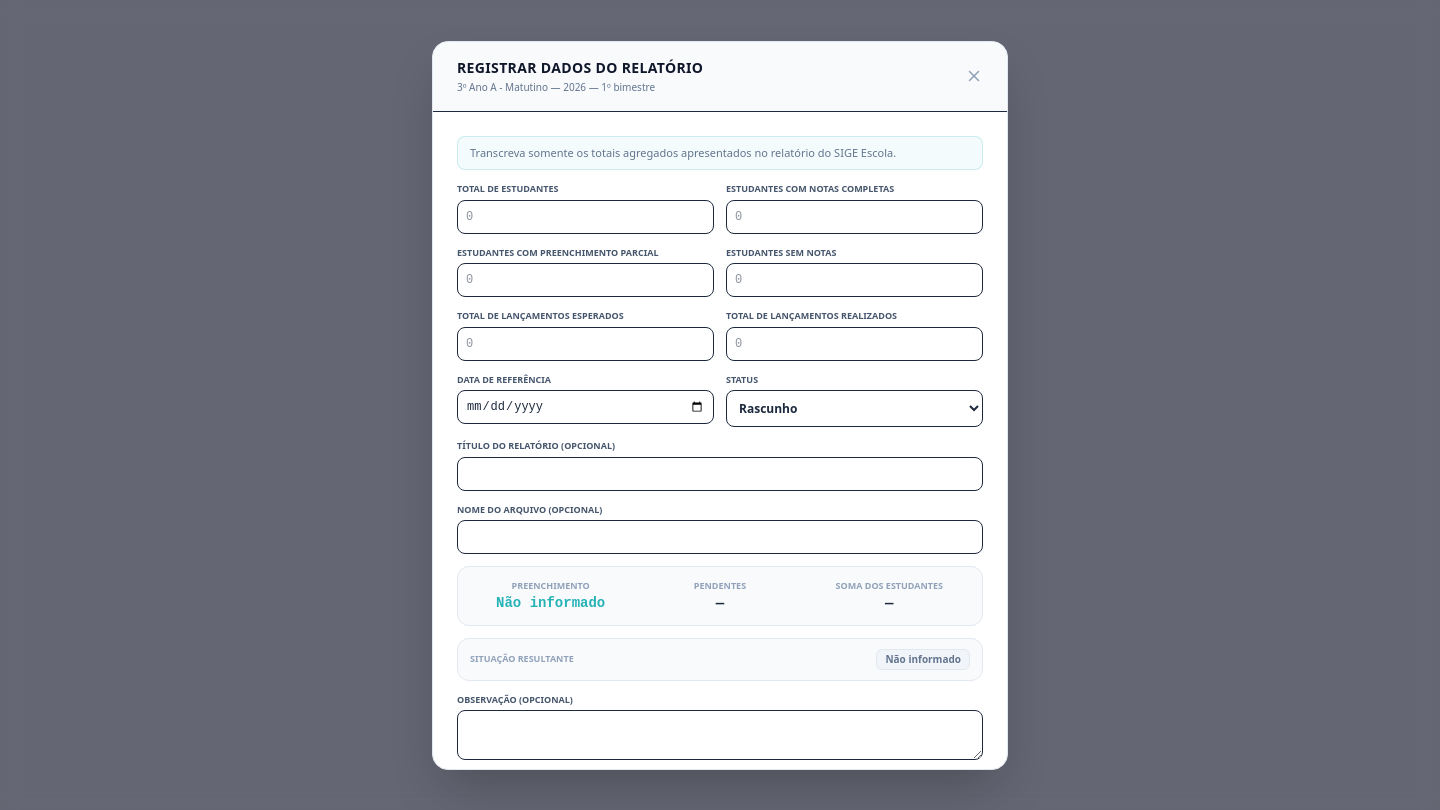
Test: GradeEntryMonitoringFormModal › soma de estudantes divergente do total mostra aviso, mesmo antes do envio
The image size is (1440, 810).
Type "32" into the field labelled "Total de estudantes" at (586, 216), box [457, 200, 714, 234]
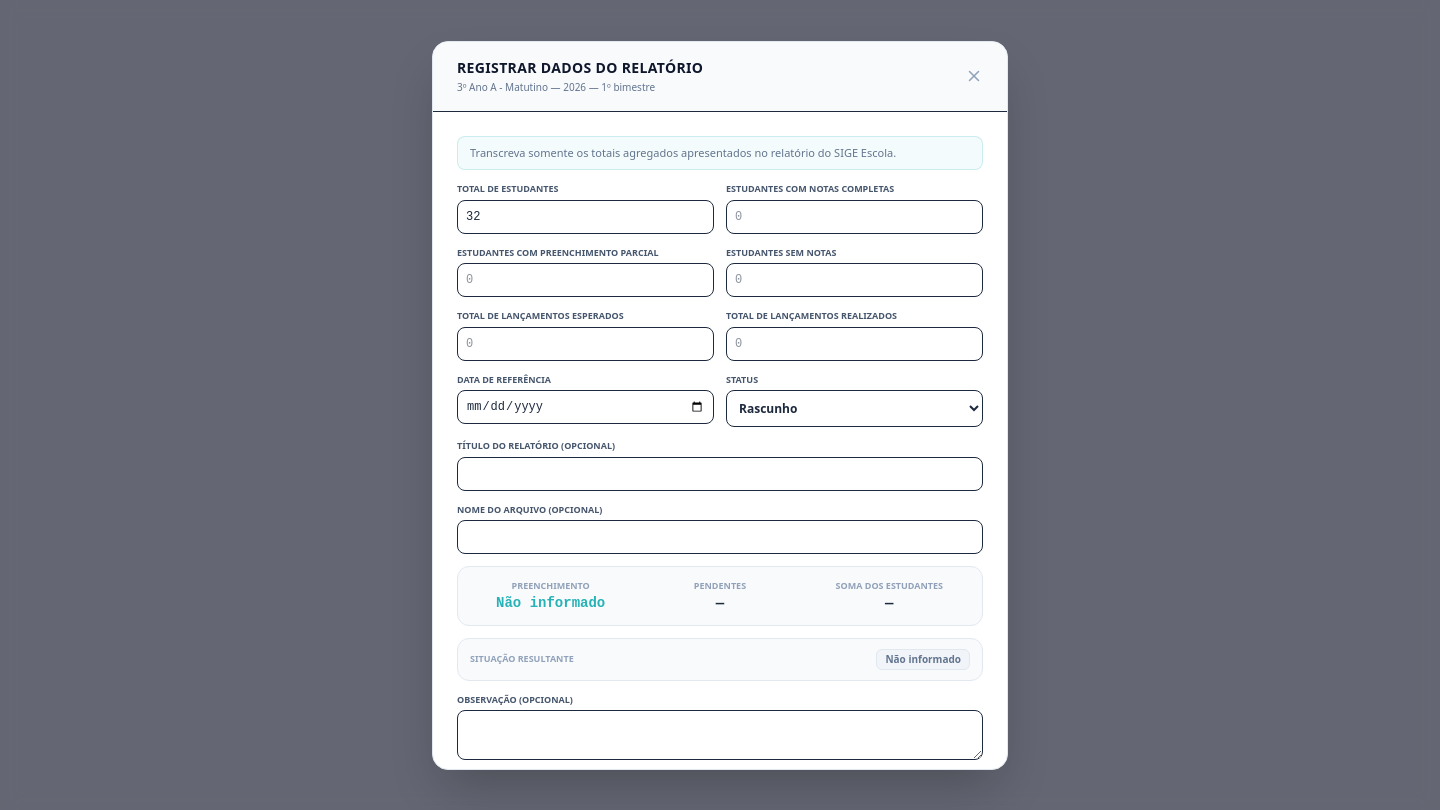
Type "10" into the field labelled "Estudantes com notas completas" at (854, 216), box [726, 200, 983, 234]
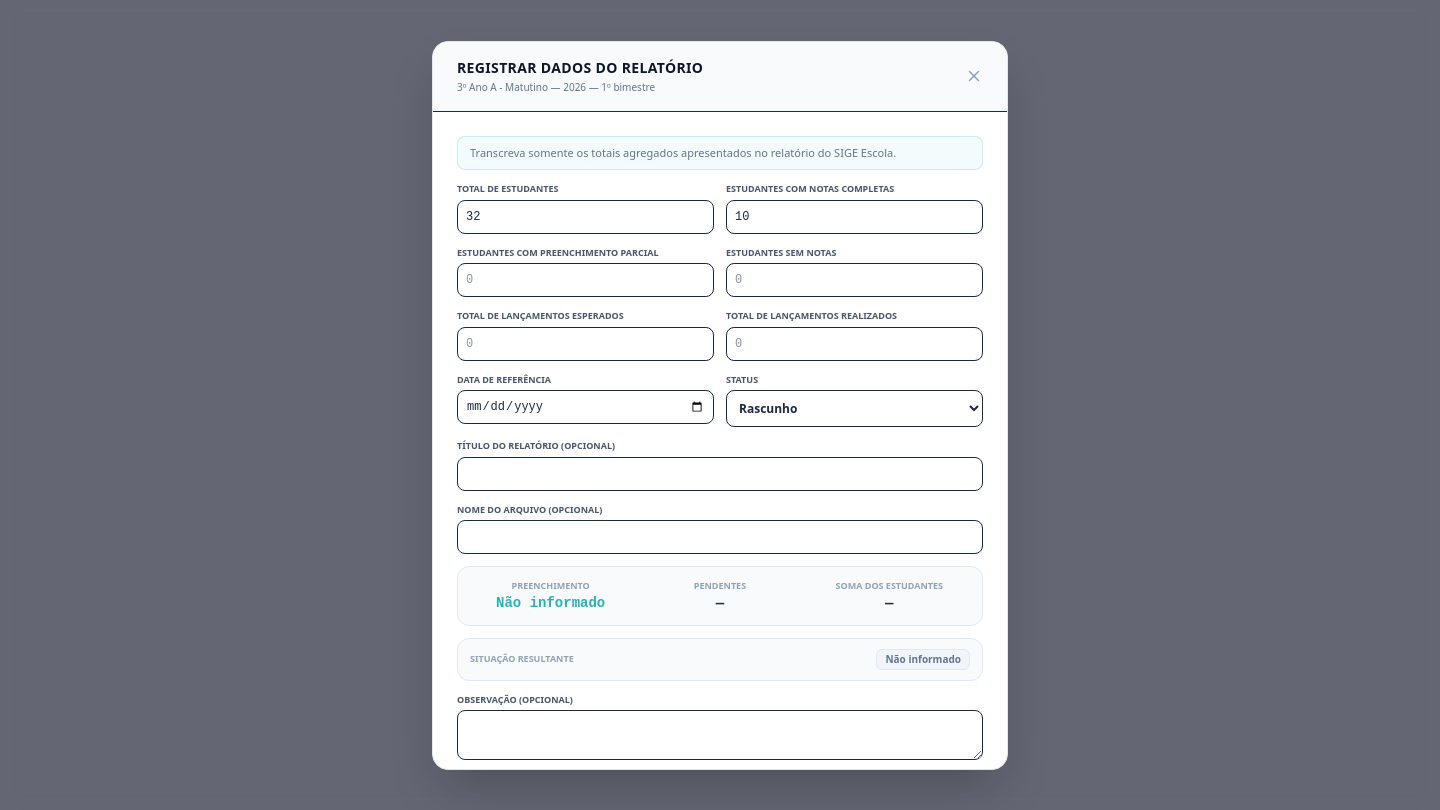
Type "10" into the field labelled "Estudantes com preenchimento parcial" at (586, 280), box [457, 263, 714, 297]
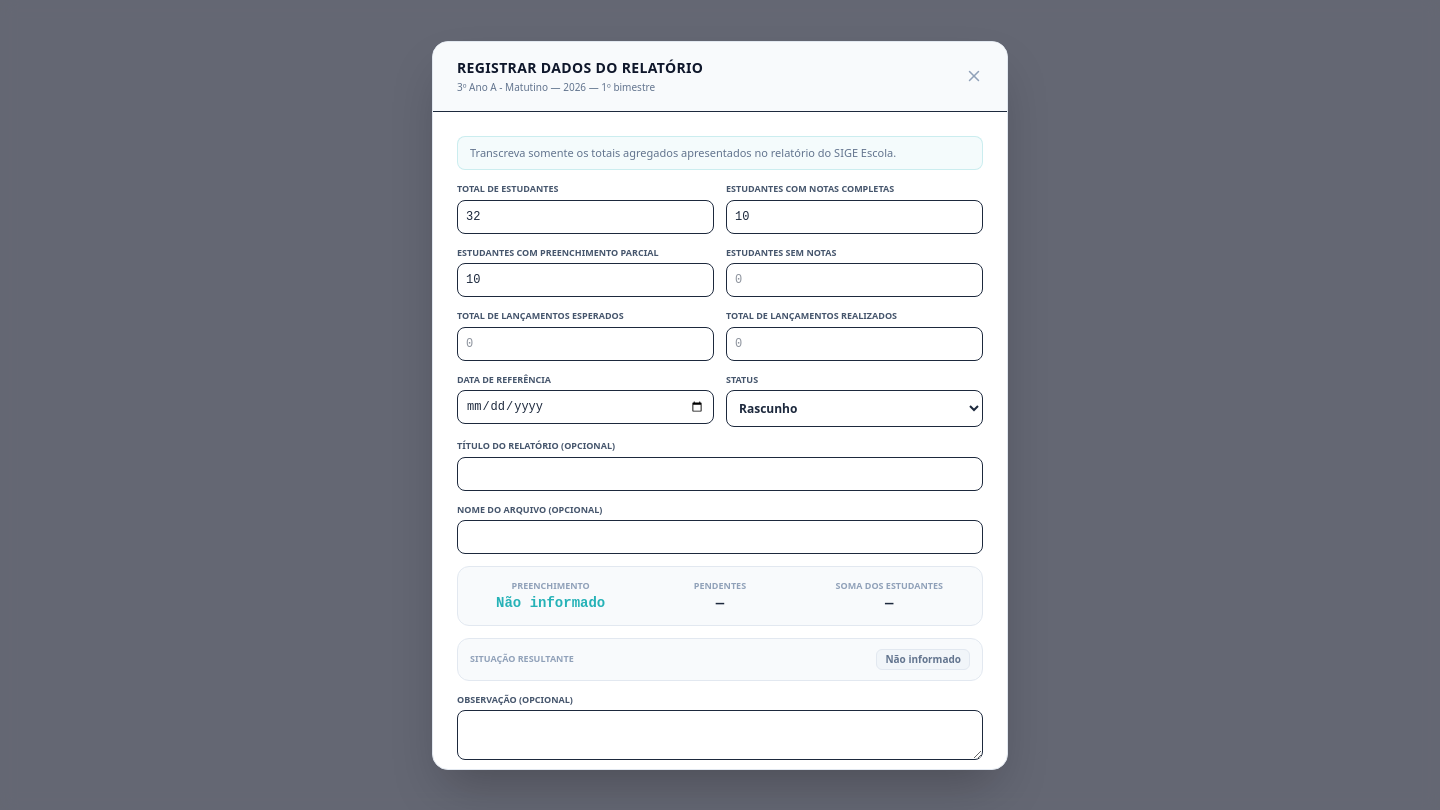
Type "5" into the field labelled "Estudantes sem notas" at (854, 280), box [726, 263, 983, 297]
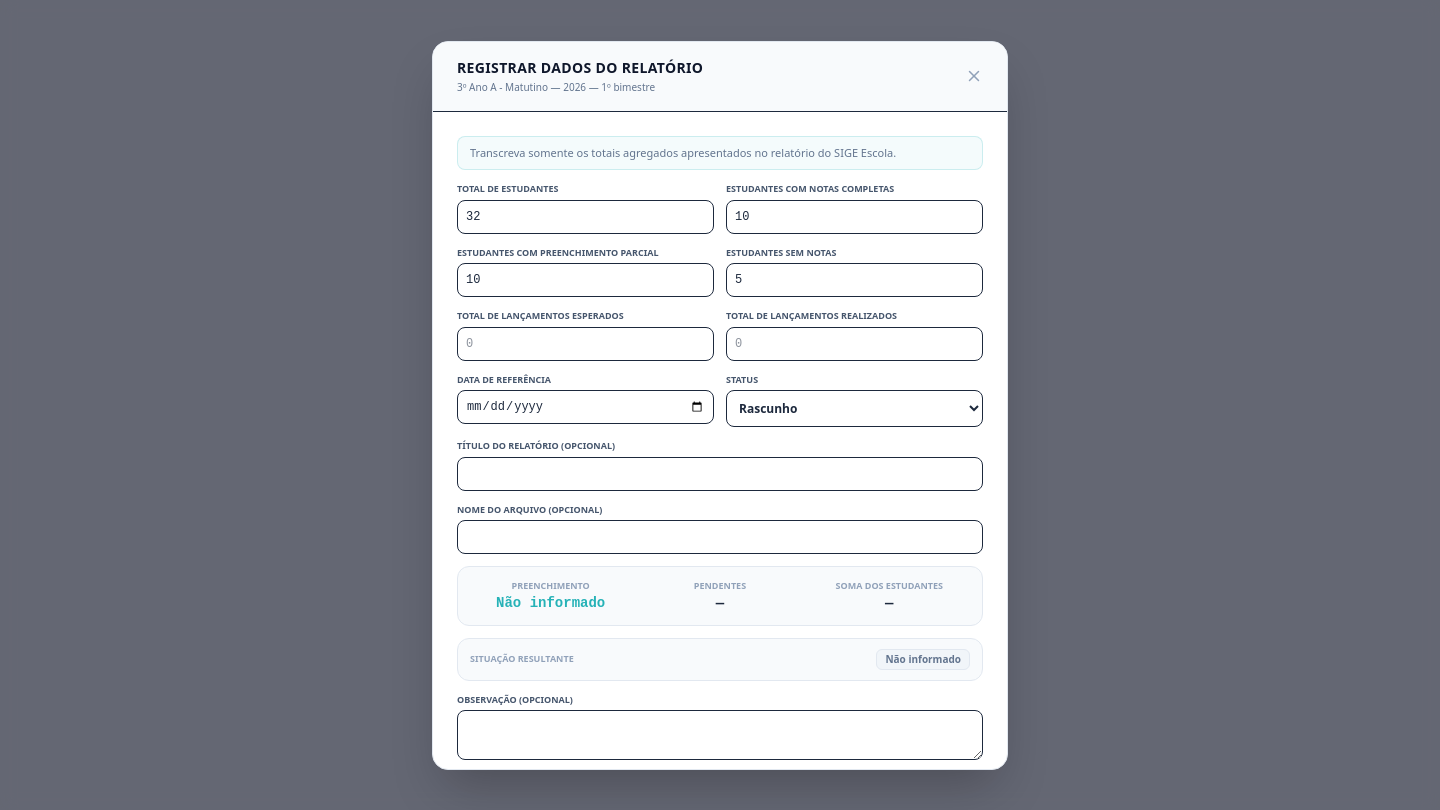
Type "128" into the field labelled "Total de lançamentos esperados" at (586, 344), box [457, 326, 714, 360]
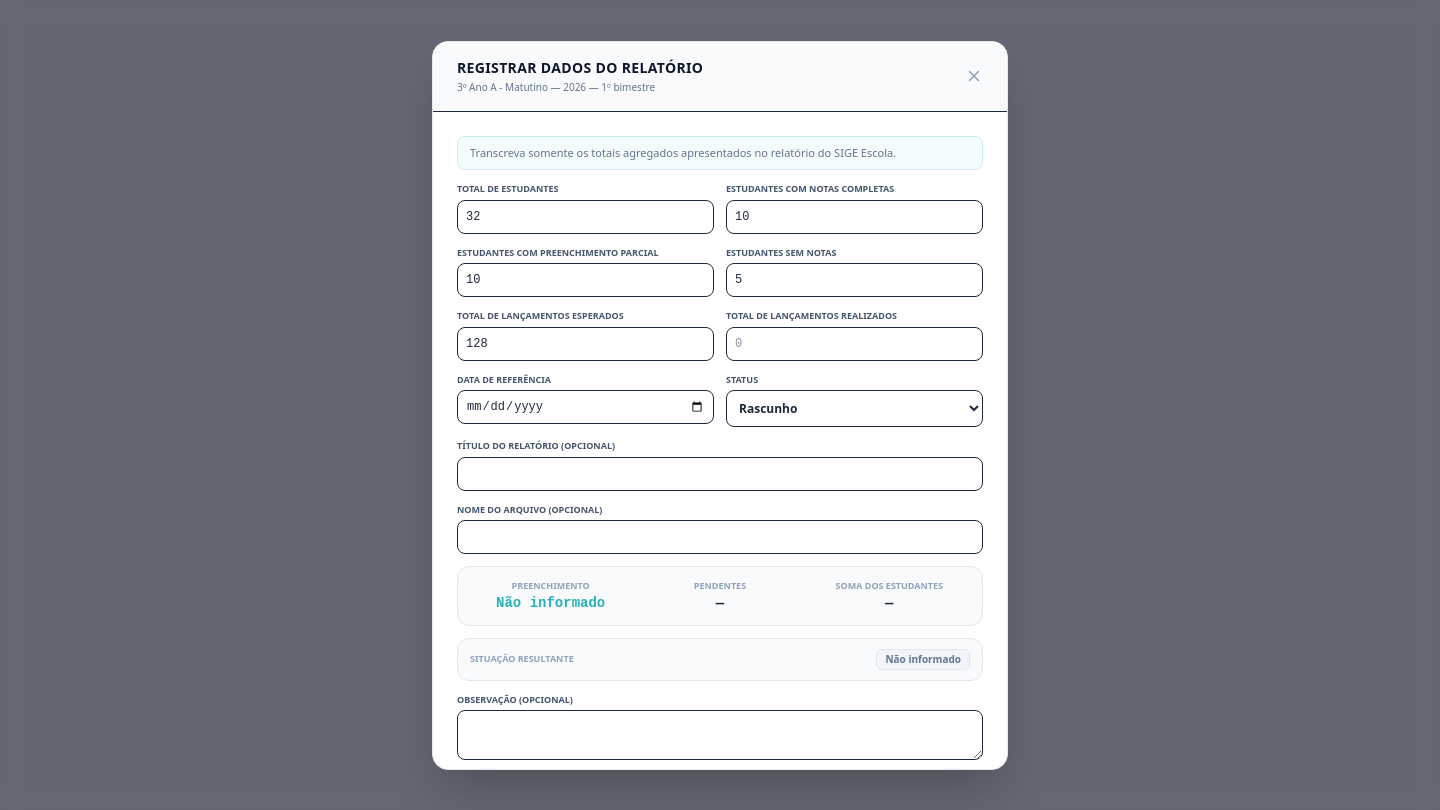
Type "128" into the field labelled "Total de lançamentos realizados" at (854, 344), box [726, 326, 983, 360]
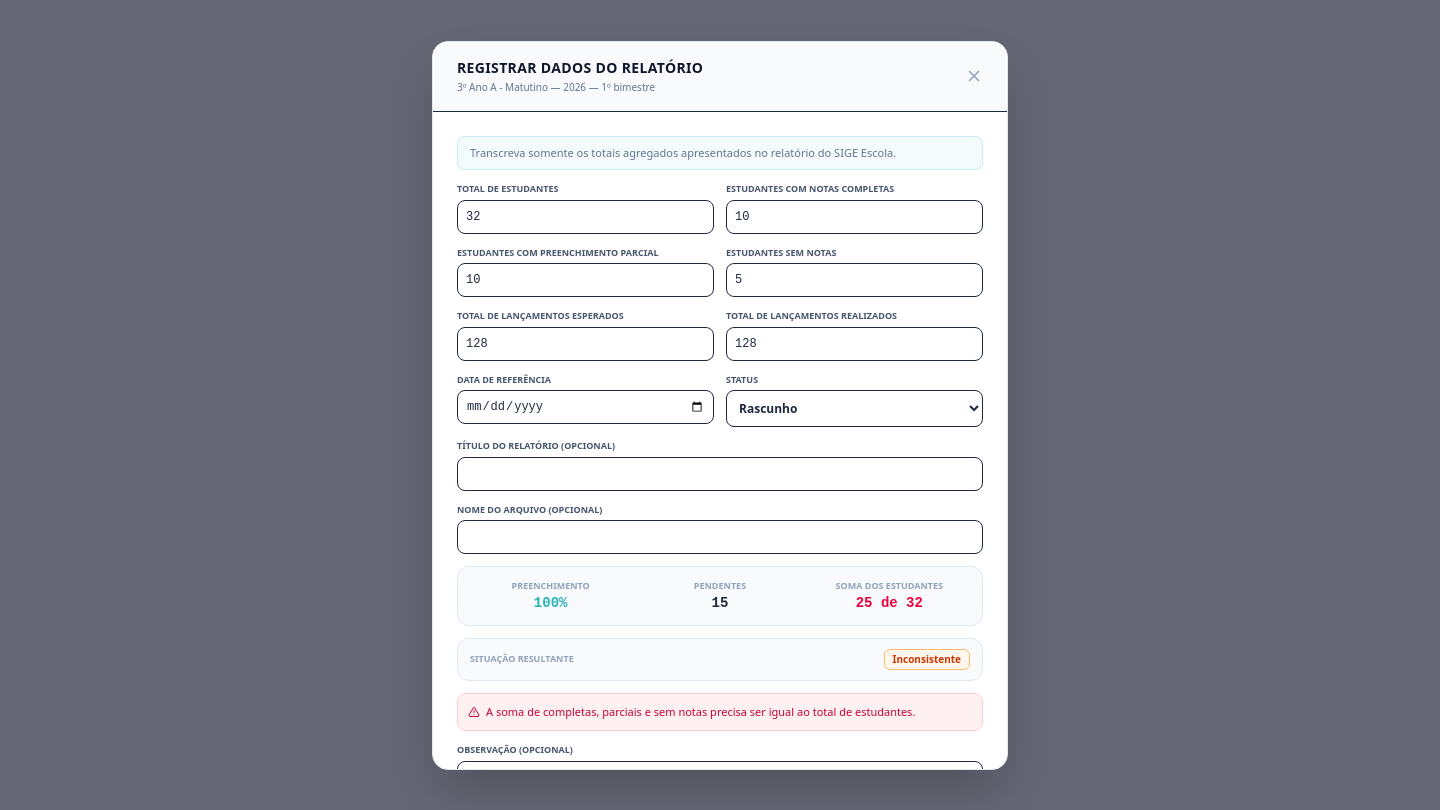
Now the text "A soma de completas, parciais e sem notas precisa ser igual ao total de estudantes." is shown, box [486, 704, 915, 718]
